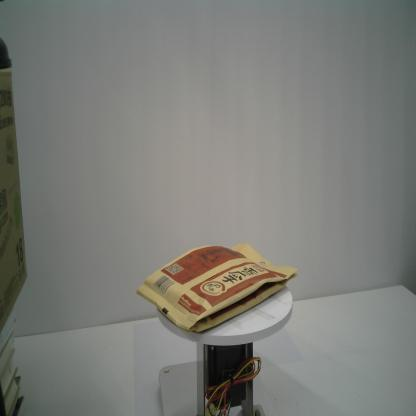Dried Food: (135, 240, 300, 334)
